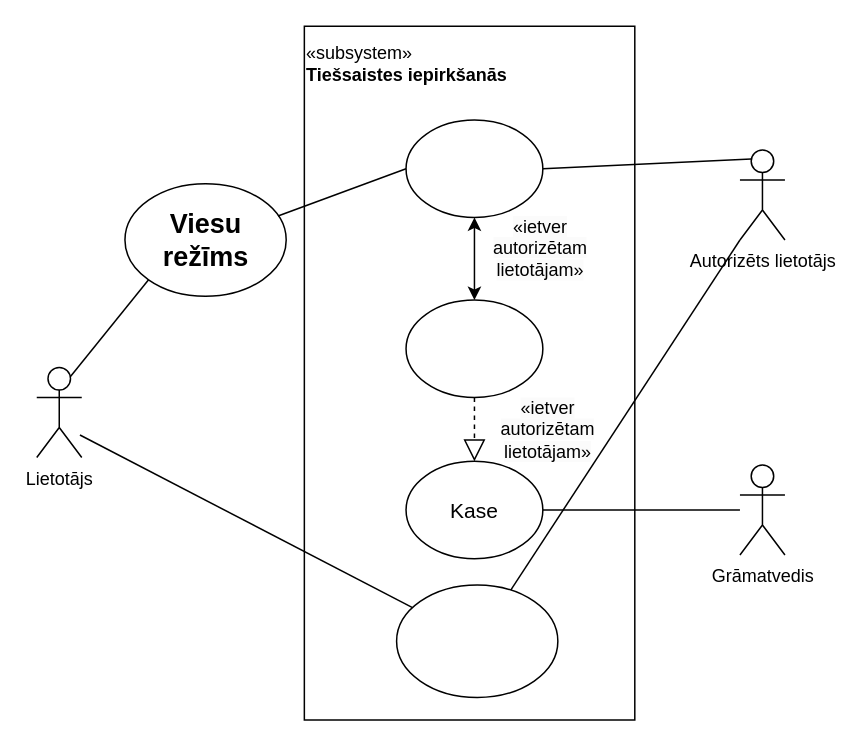
The diagram is 861 pixels wide and 747 high, and some of its shapes have lost their labels. The centre of each missing label's shape, as x and y in pixels:
Apskatīt preci: pixel 474 168
Reģistrācija: pixel 476 641
Veikt pirkumu: pixel 474 348
